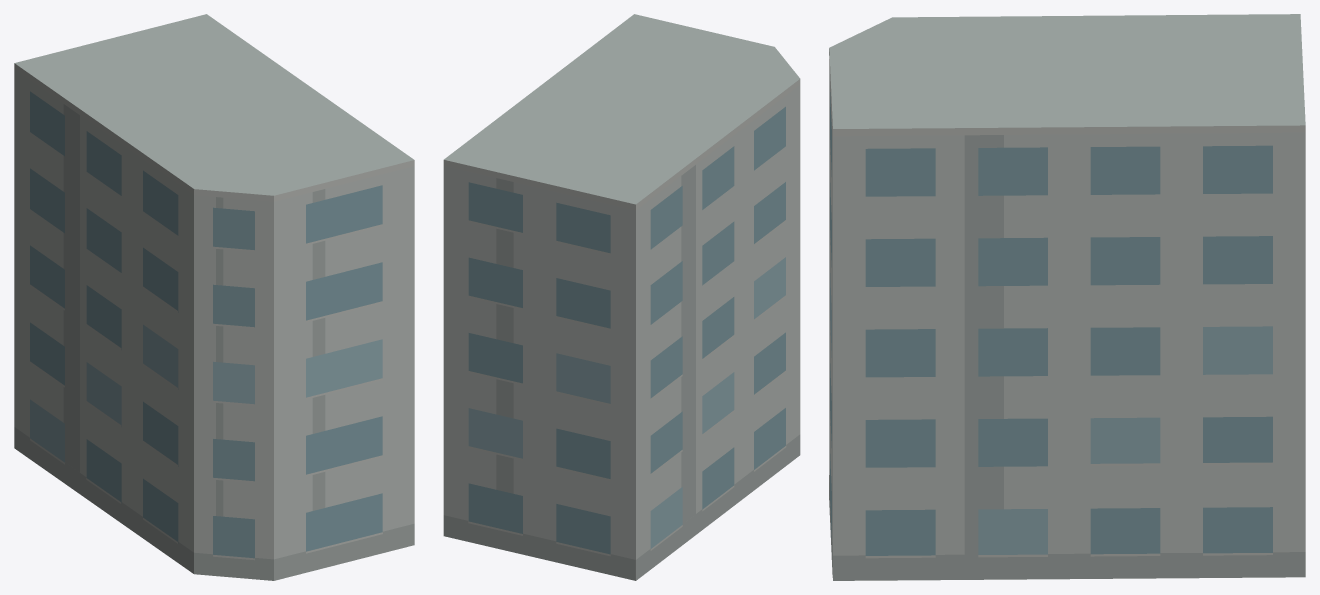
The model's file is residential-c078d9a3-24cf-463f-b28e-73c28d7bc037.glb.
3 renders of one model, left to right at view 1: azimuth 30°, elevation 25°; view 2: azimuth 150°, elevation 25°; view 3: azimuth 270°, elevation 25°, orthographic. The views are drawn at different scales.
Visible parts, largest first — view 1: residential-c078d9a3-24cf-463f-b28e-73c28d7bc037.tmp; view 2: residential-c078d9a3-24cf-463f-b28e-73c28d7bc037.tmp; view 3: residential-c078d9a3-24cf-463f-b28e-73c28d7bc037.tmp.
Part boxes in pixels (box(x1,y1,x2,y2)): residential-c078d9a3-24cf-463f-b28e-73c28d7bc037.tmp: box(14, 14, 414, 580); residential-c078d9a3-24cf-463f-b28e-73c28d7bc037.tmp: box(443, 14, 800, 580); residential-c078d9a3-24cf-463f-b28e-73c28d7bc037.tmp: box(829, 14, 1305, 580).
Size of the model in its own units: 8.34 by 15.25 by 14.58.
